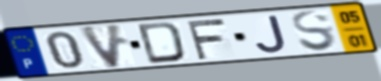0: (43, 30, 88, 70)
D: (135, 20, 188, 66)
F: (183, 17, 228, 61)
J: (254, 14, 289, 55)
S: (289, 9, 340, 53)
V: (76, 22, 125, 71)
